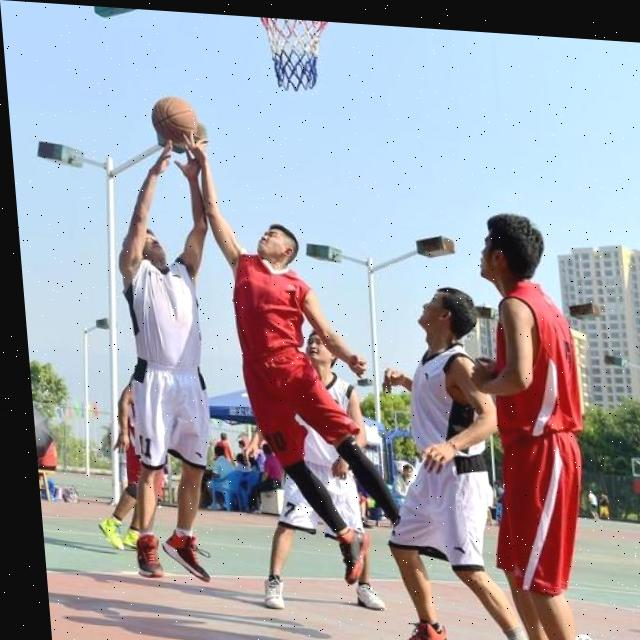basketball: (150, 97, 200, 145)
hoop: (260, 17, 335, 95)
